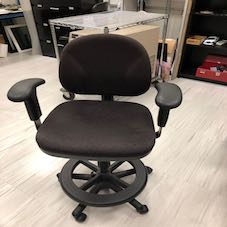chair: (6, 34, 203, 220)
